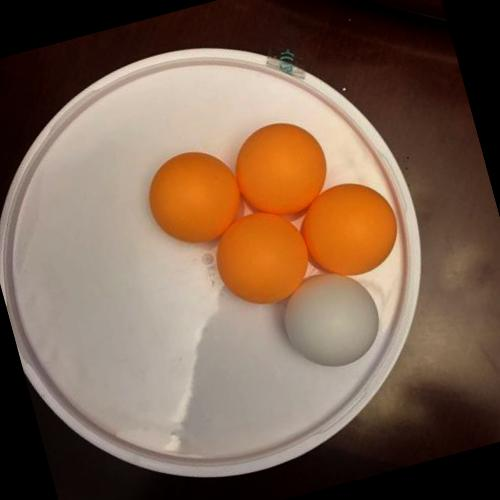ball: (270, 258, 392, 380), (289, 170, 409, 290), (221, 108, 340, 229), (134, 138, 252, 258), (202, 198, 322, 316)
